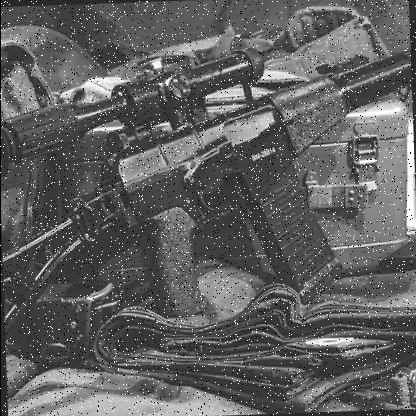rifle: (0, 28, 411, 303)
